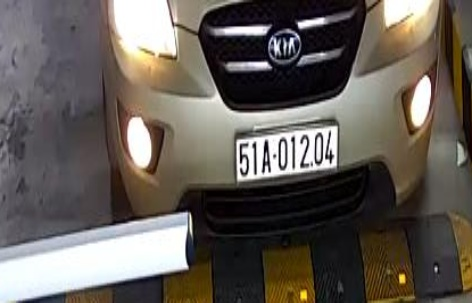plate: (231, 119, 346, 189)
